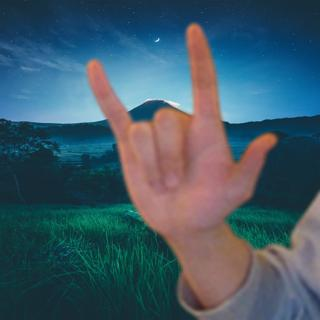ILY: (81, 17, 285, 240)
